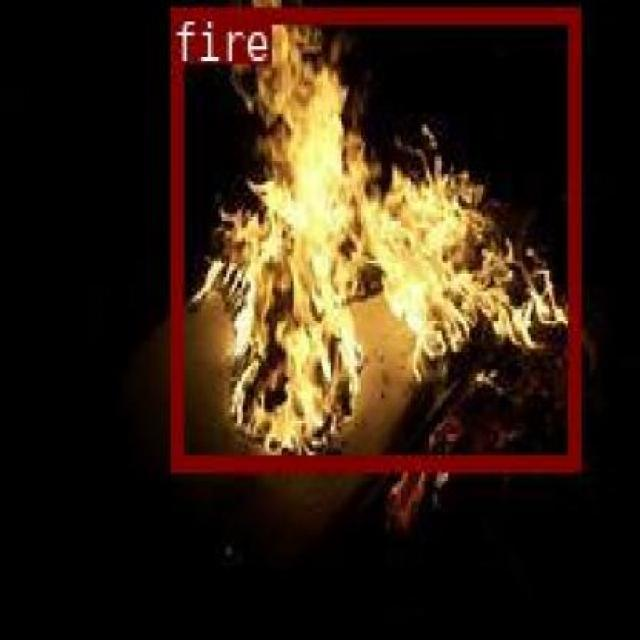Smoke: (170, 5, 576, 467)
